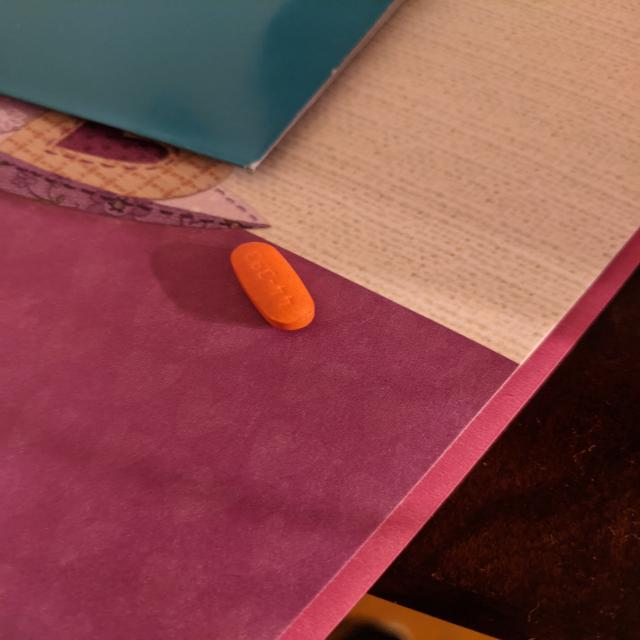non-organic waste: (228, 240, 317, 332)
